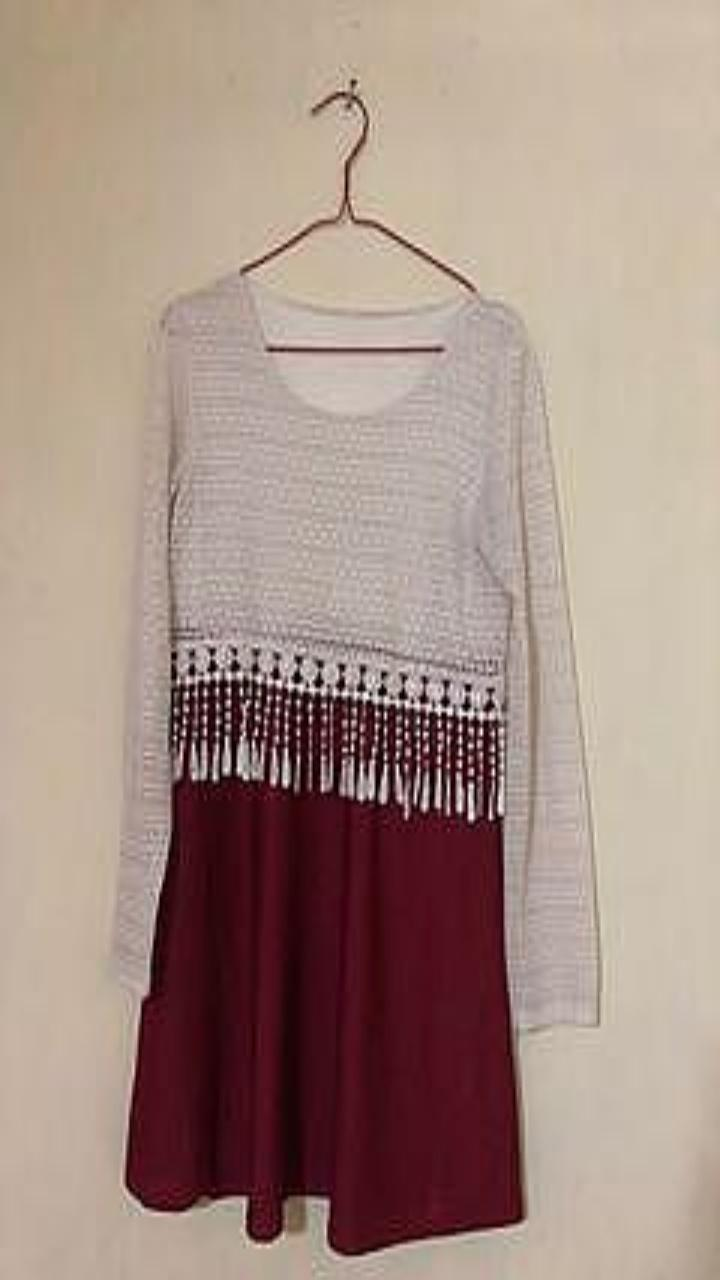Dresses: (113, 275, 598, 1253), (126, 778, 522, 1252)
